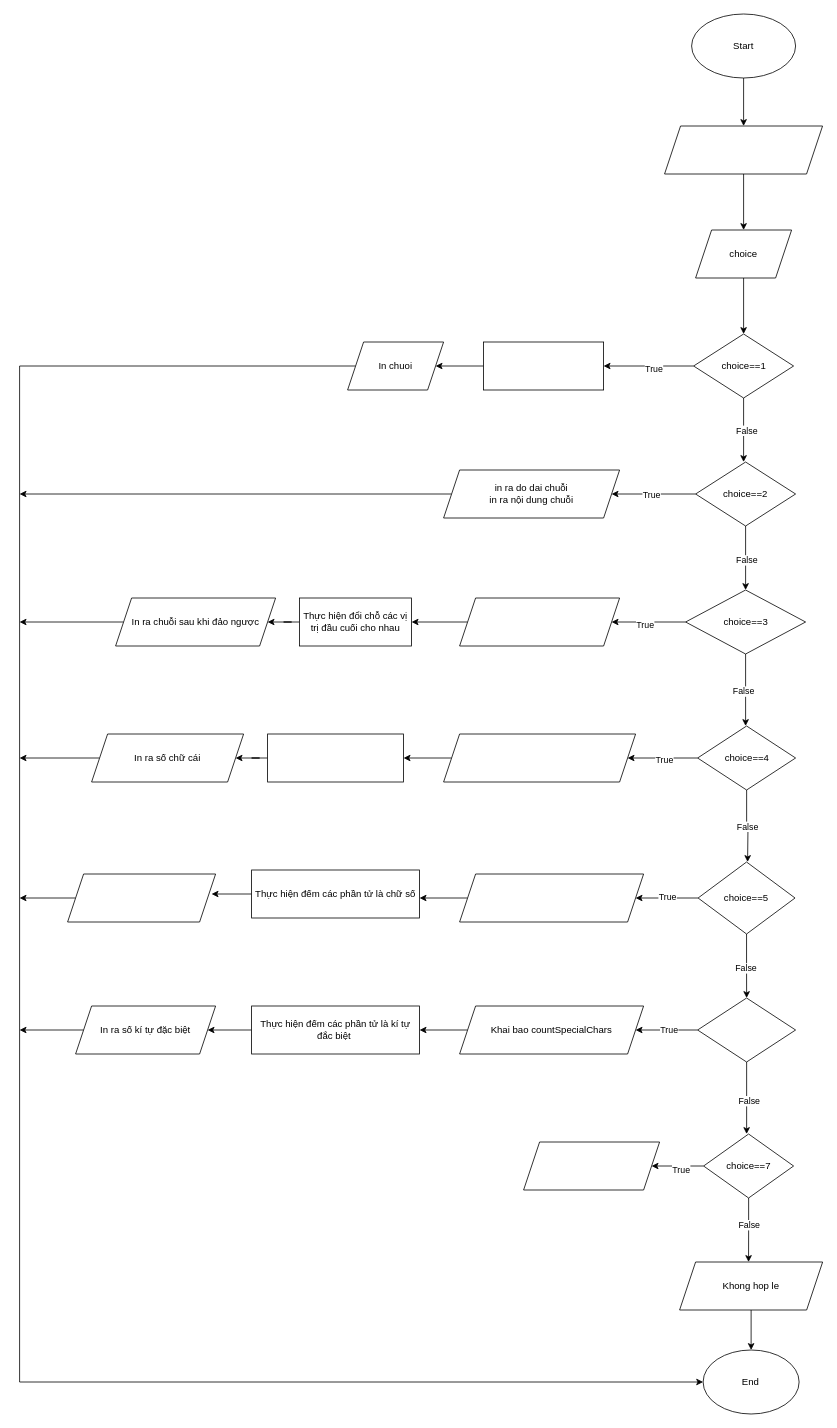
Image size: 837x1428. Some labels were removed from this diagram. The shapes that lost their labels are listed below. From the top down, each one's centre as x and y in pixels, then its label:
At point (743, 149): "Nhap chuoi : character[100]".
At point (543, 365): "Nhap cac ki tu cho day".
At point (539, 621): "khai bao ham reverseString".
At point (335, 757): "Thực hiện đếm các phần tử là chữ cai".
At point (539, 757): "khai bao countLetters".
At point (141, 897): "In ra số chữ số".
At point (551, 897): "Khai bao countDigits".
At point (746, 1029): "choice==6".
At point (591, 1165): "Kết thúc chương trình Exit(0)".
